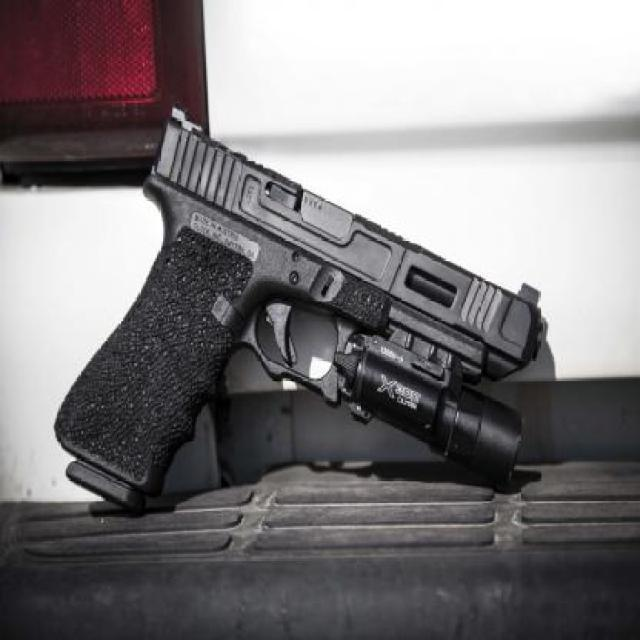gun: (53, 92, 549, 517)
